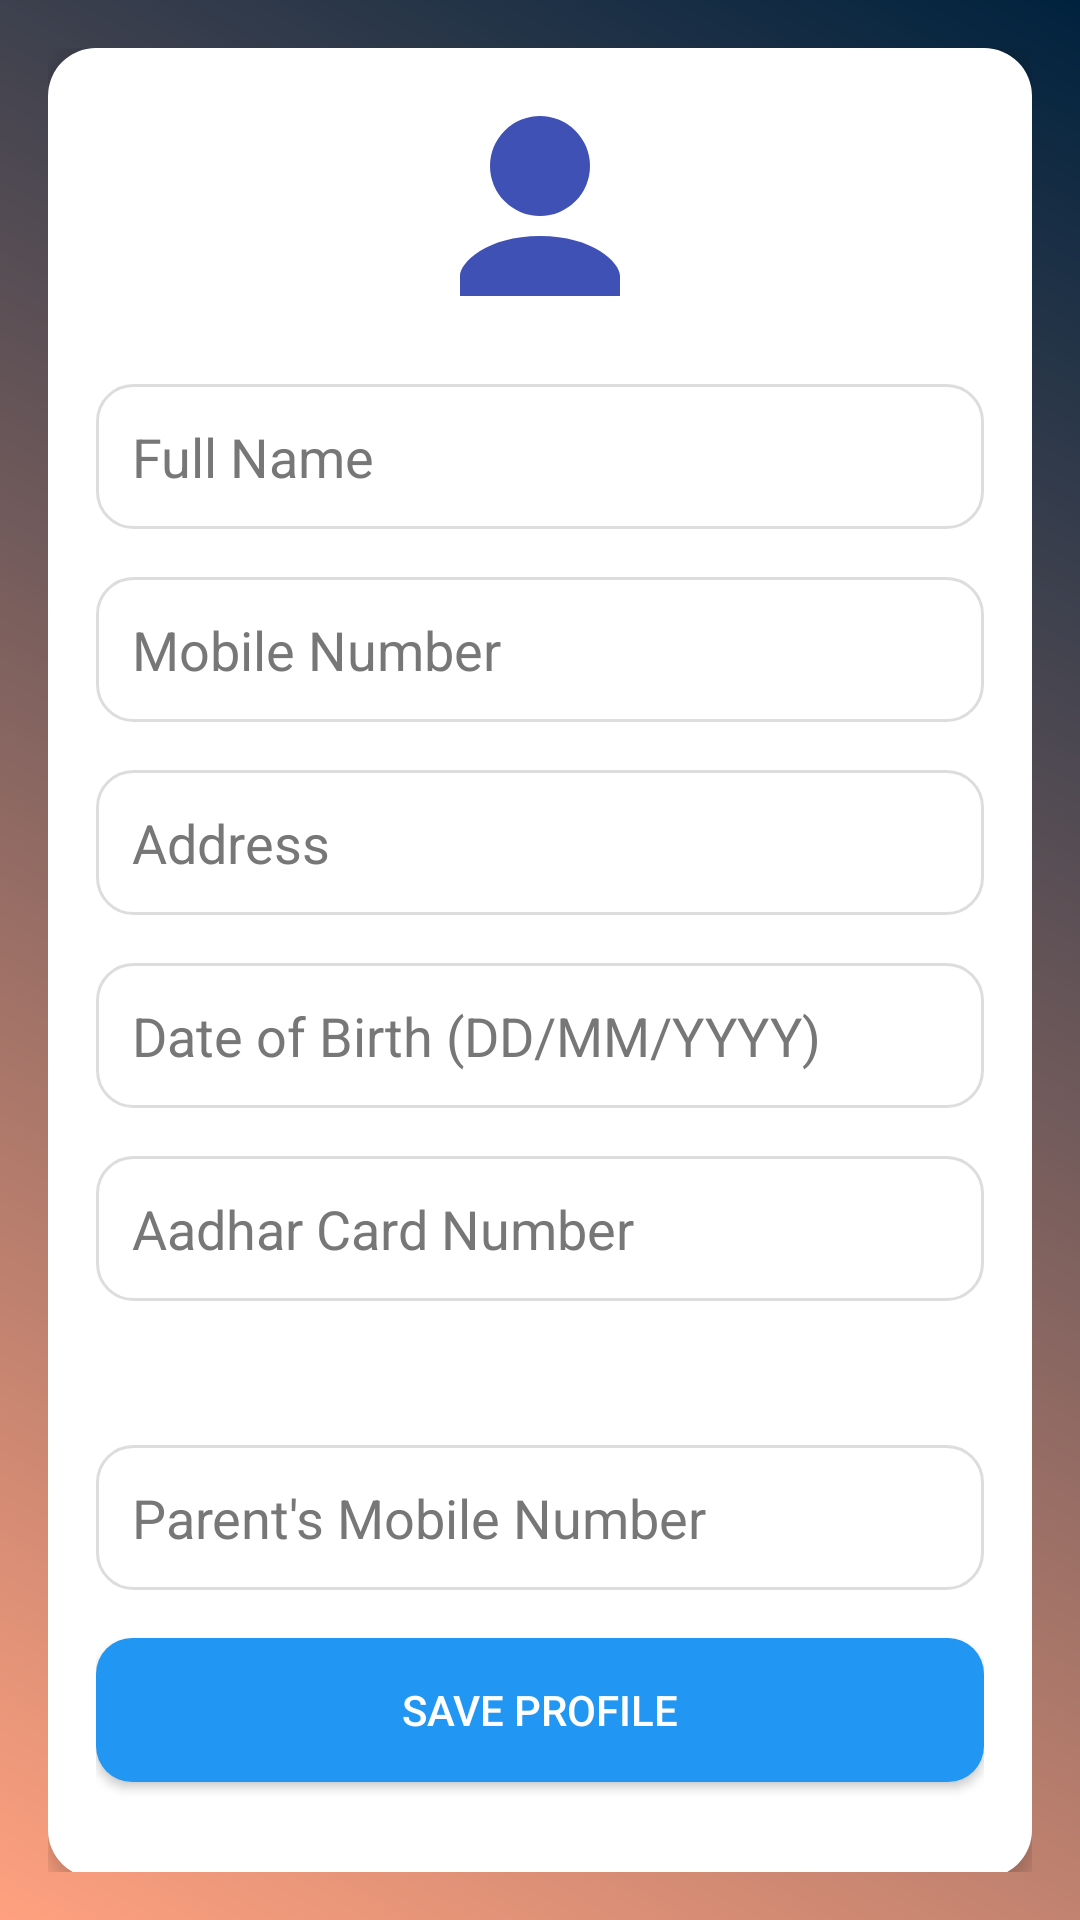

Where icons sit on this 1080px x 1920px app screen, as (x1, y1, x2, y2):
profile: (460, 116, 620, 296)
